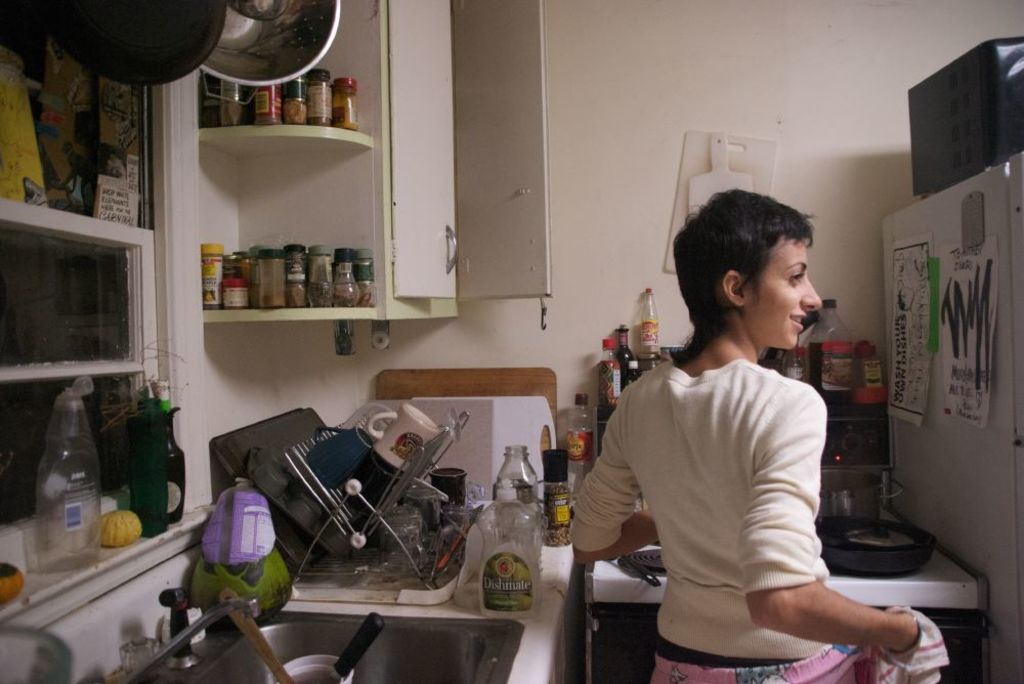cabinet door: (465, 18, 547, 290), (394, 5, 459, 294)
handle: (431, 219, 457, 283)
